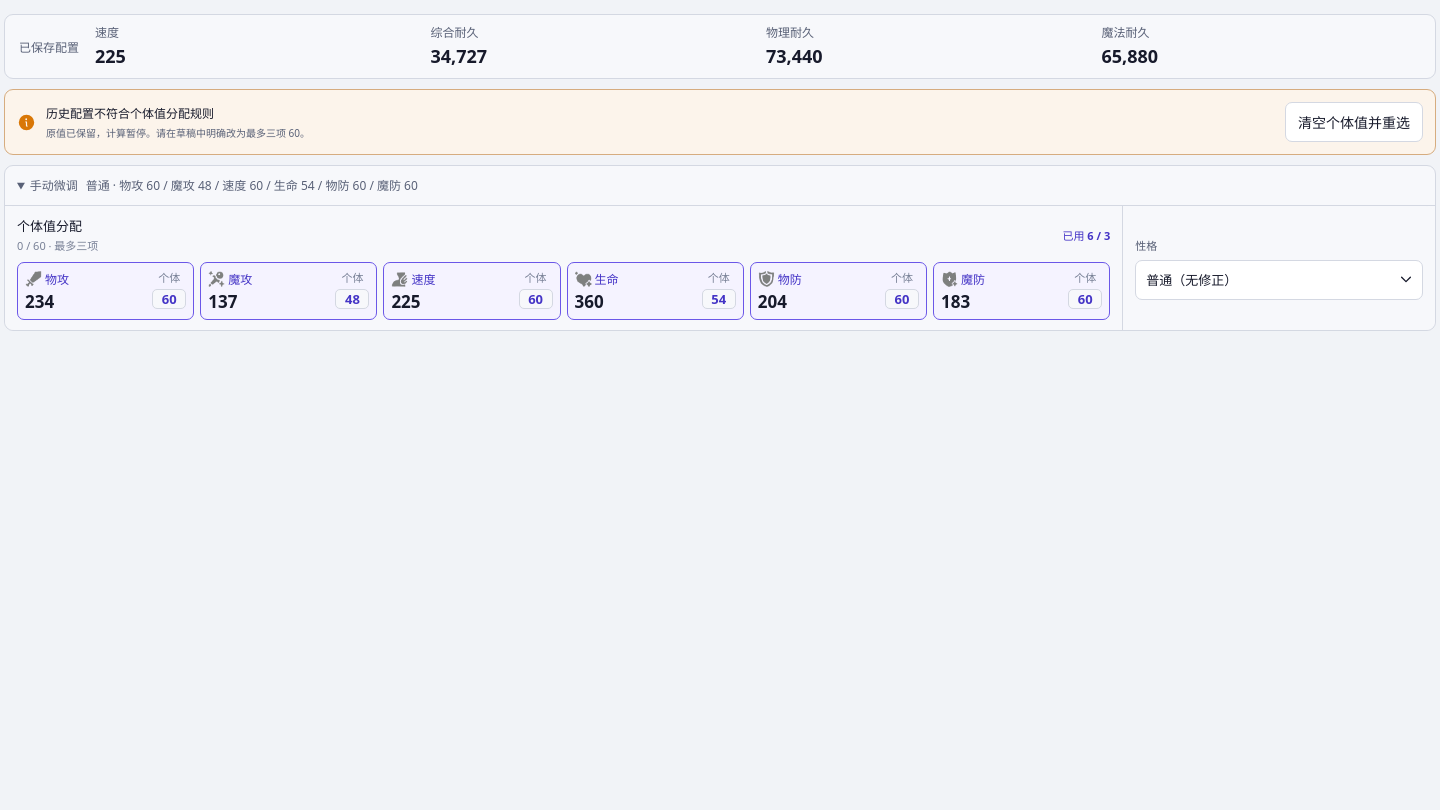
Test: keeps historical unsupported values visible and pauses analysis until explicit repair
Expected: the message shows "历史配置不符合个体值分配规则", [46,105,214,122]
Expected: the text "54" is shown, [702,289,736,309]
Click the button "清空个体值并重选": (1354, 122) [1285,102,1423,142]
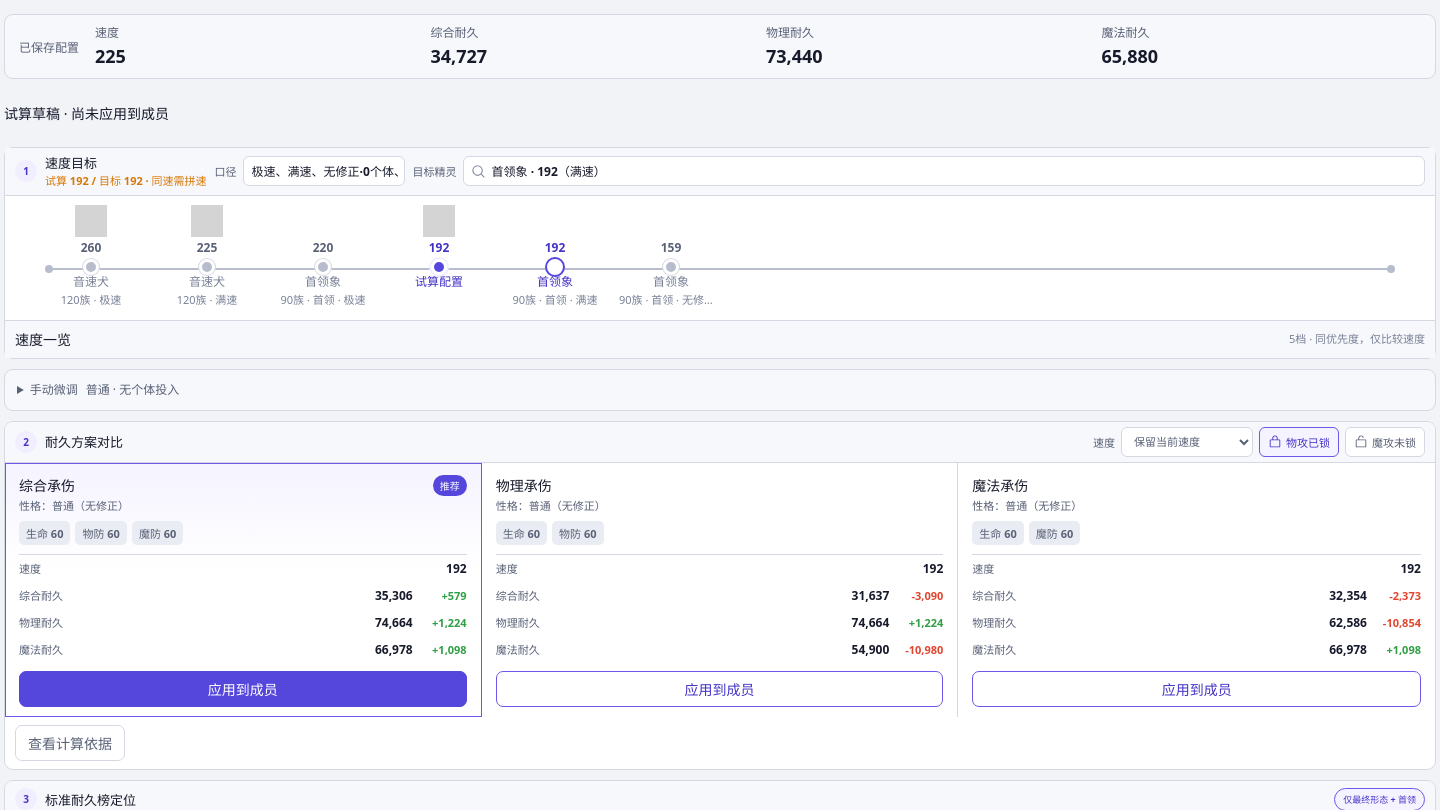
Now the element "耐久方案对比" is shown, box [4,421,1436,770]
